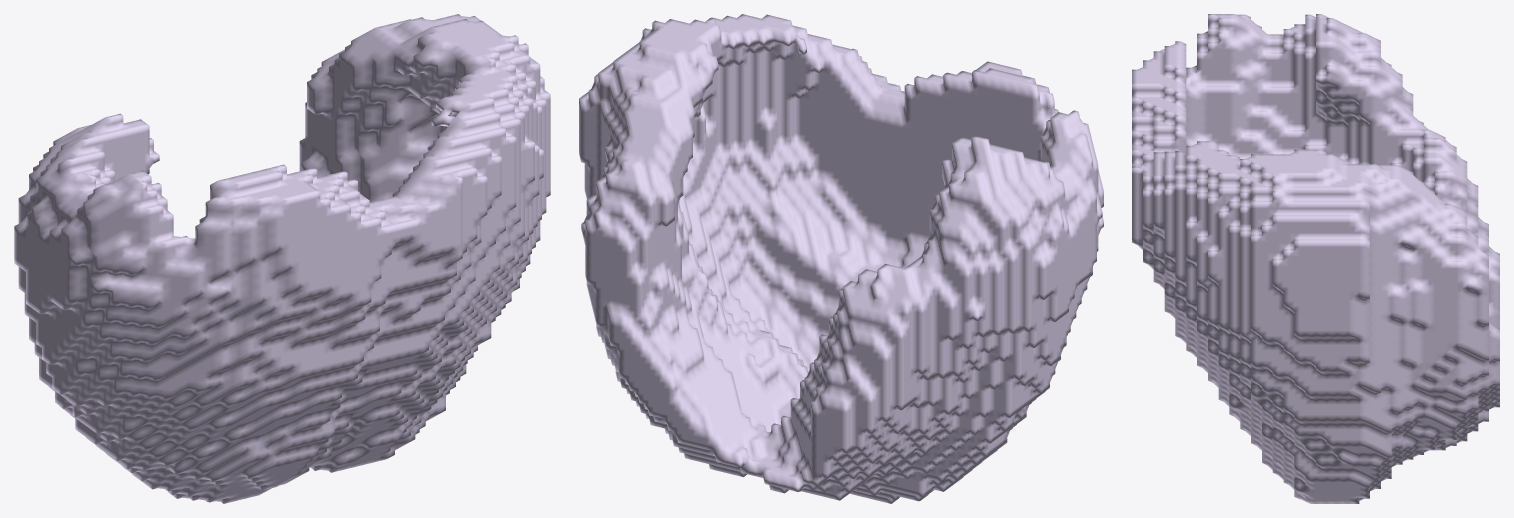
The model's file is region-7.glb.
3 renders of one model, left to right at view 1: azimuth 30°, elevation 25°; view 2: azimuth 150°, elevation 25°; view 3: azimuth 270°, elevation 25°, orthographic. The views are drawn at different scales.
Parts seen in each view (by area): view 1: digimouse-volume:7; view 2: digimouse-volume:7; view 3: digimouse-volume:7.
Boxes of the visible parts, x1,y1,x2,y2 form: digimouse-volume:7: (14, 14, 550, 503); digimouse-volume:7: (579, 14, 1103, 503); digimouse-volume:7: (1132, 14, 1499, 503).
Bounding box in the file's own units: 0.0096 × 0.0078 × 0.0068.
